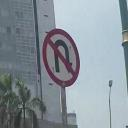NoVirarU: (38, 22, 84, 91)
